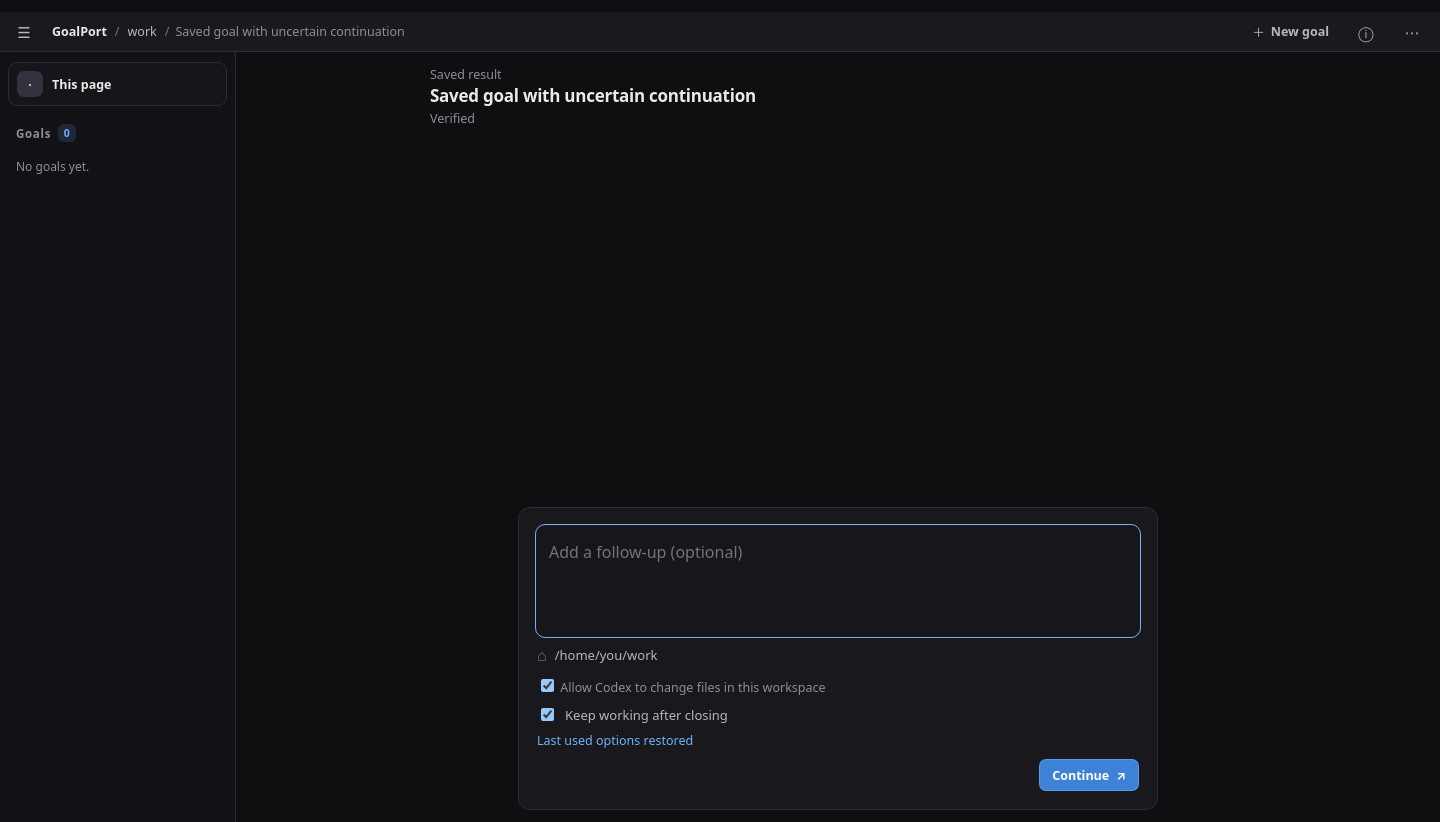
Test: Linux Core bridge › keeps an unknown Continue draft without stale restore or Start controls
Expected: the heading "Saved goal with uncertain continuation" is shown, [430,84,756,107]
Expected: the text "Last used options restored" is shown, [537,732,693,749]
Type "Retain this exact follow-up" into the text box named "Message composer" at (838, 580), box [537,526,1139,636]
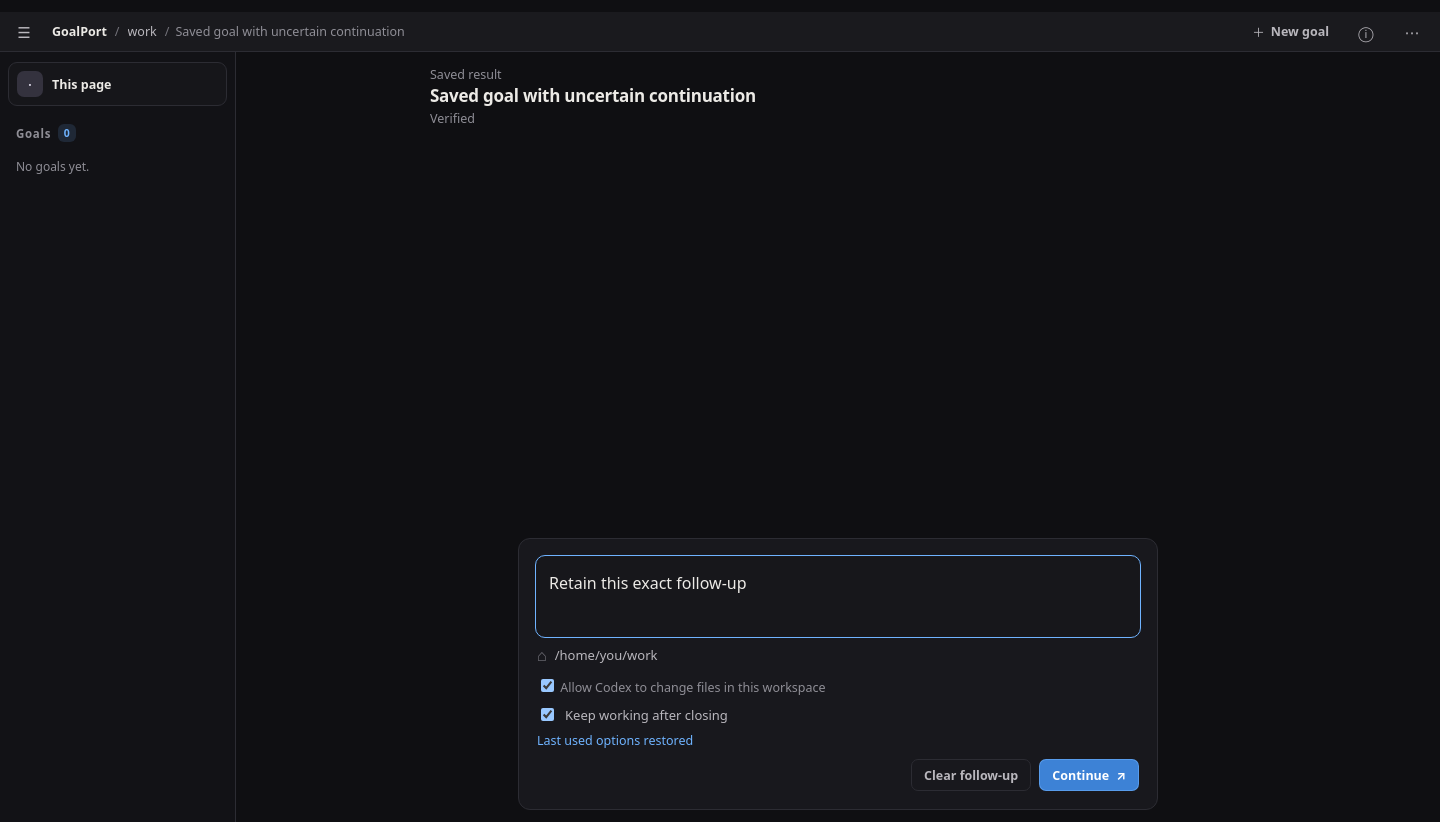
Click the button with aria-label "Continue this goal" at (1089, 775), box [1039,759,1139,791]
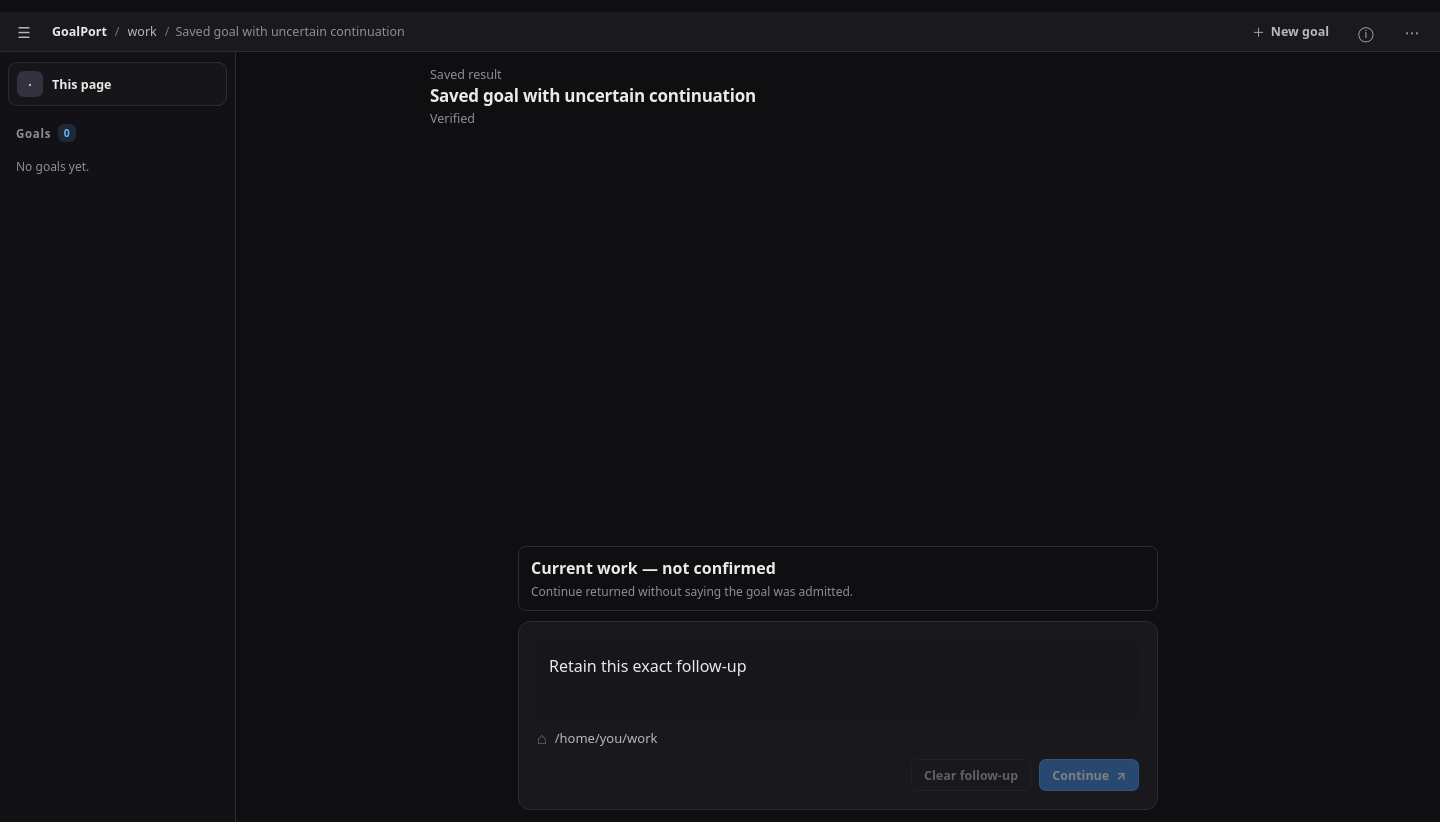
Now the text "Continue returned without saying the goal was admitted." is shown, box [531,583,853,600]
Now the label "Keep working after closing" is gone
Now the label labelled "Allow Codex to change files in this workspace" is gone
